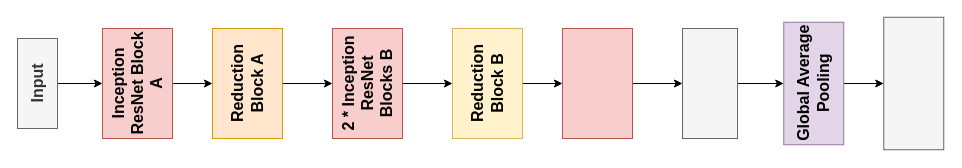
Image size: 962x168. Some labels were removed from this diagram. Each missing label, with the box of its shape:
Dropout: (682, 28, 738, 138)
Inception ResNet Block C: (562, 28, 632, 138)
Output(Softmax): (883, 16, 944, 150)
